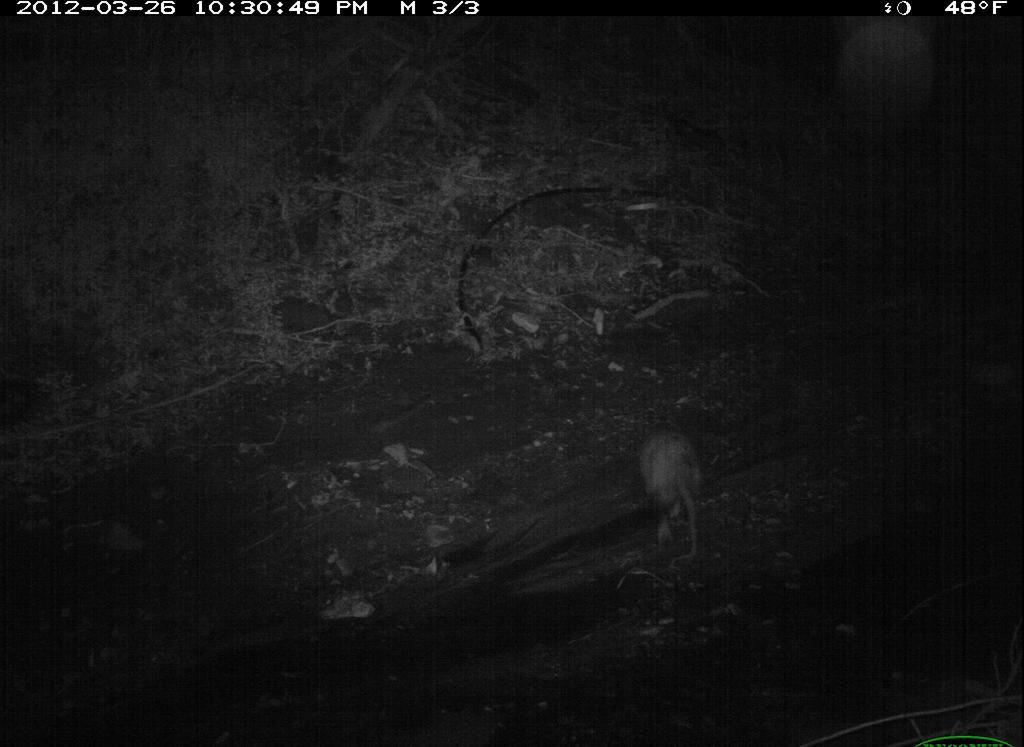opossum: (629, 418, 724, 574)
